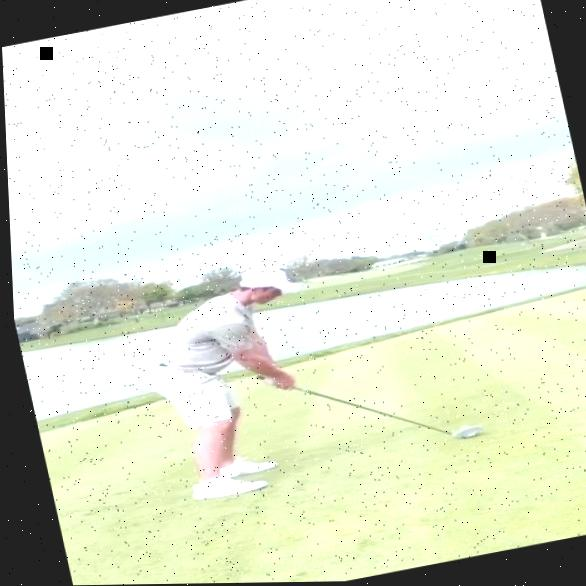ClubHead: (445, 427, 478, 442)
GolfBall: (456, 426, 468, 433)
